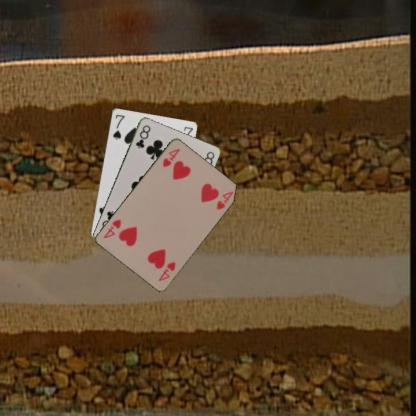4h: (155, 259, 177, 282), (160, 146, 181, 168)
7s: (110, 112, 126, 140)
8c: (133, 122, 151, 150)
